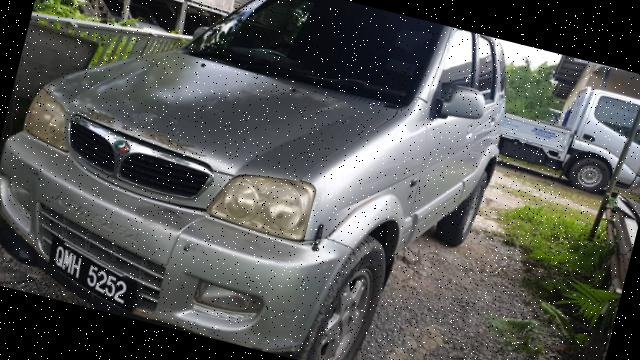License_Plate: (42, 238, 147, 317)
